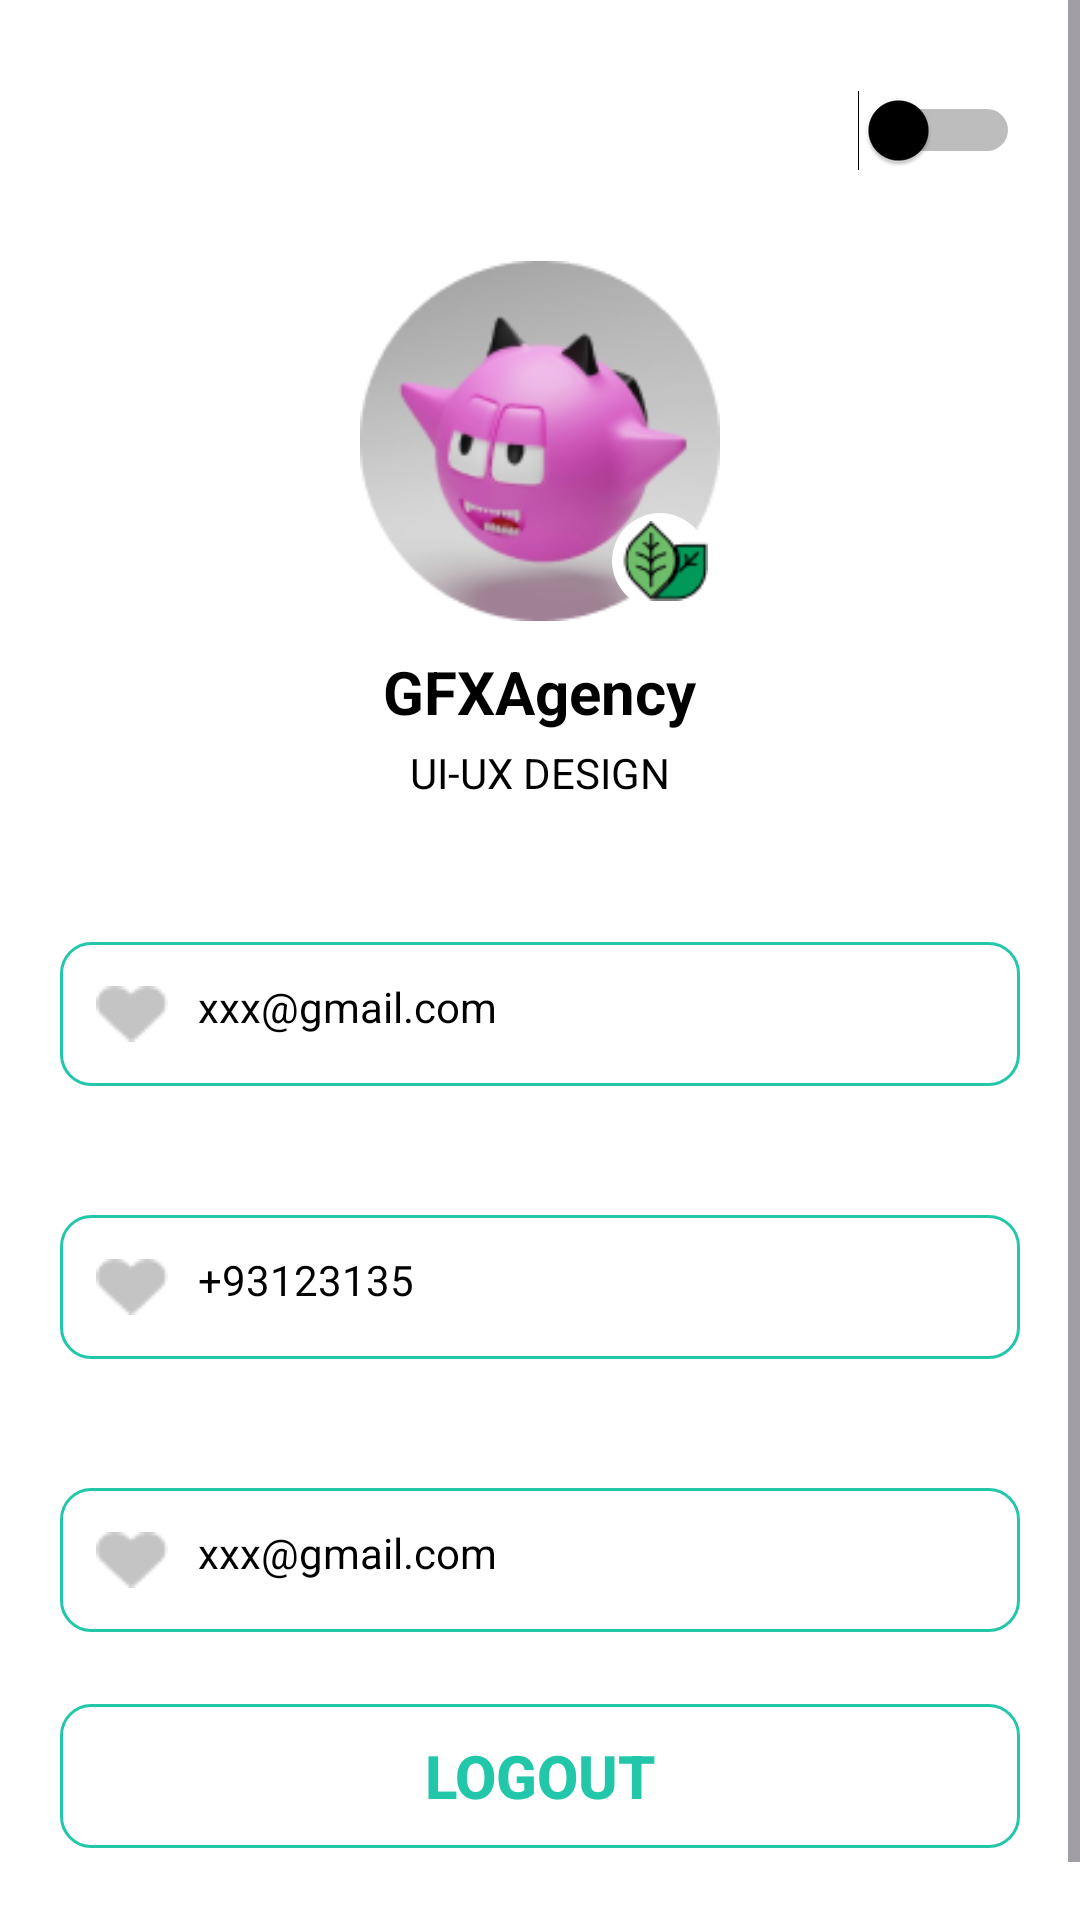

Named icons in this screenshot (1080*1920) and their bounding boxes, [x1, y1, x2, y2]:
love: [96, 986, 166, 1042], [96, 1259, 166, 1315], [96, 1532, 166, 1588]
